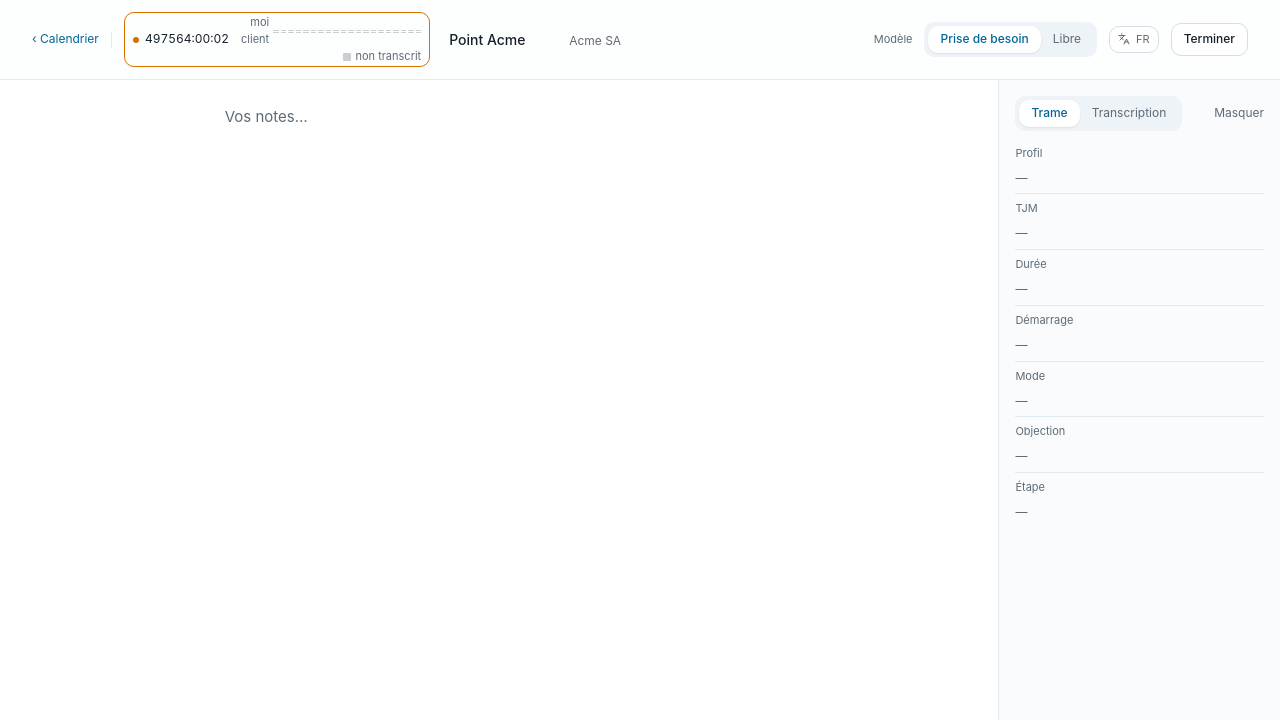
Test: the column opens on the slate and the transcript is asked for › putting the side panes away and bringing them back keeps the record
Expected: the button "Terminer" is shown, [1171,23,1248,56]
Click the button "Transcription". click: (1129, 113)
box: [1080,100,1178,127]
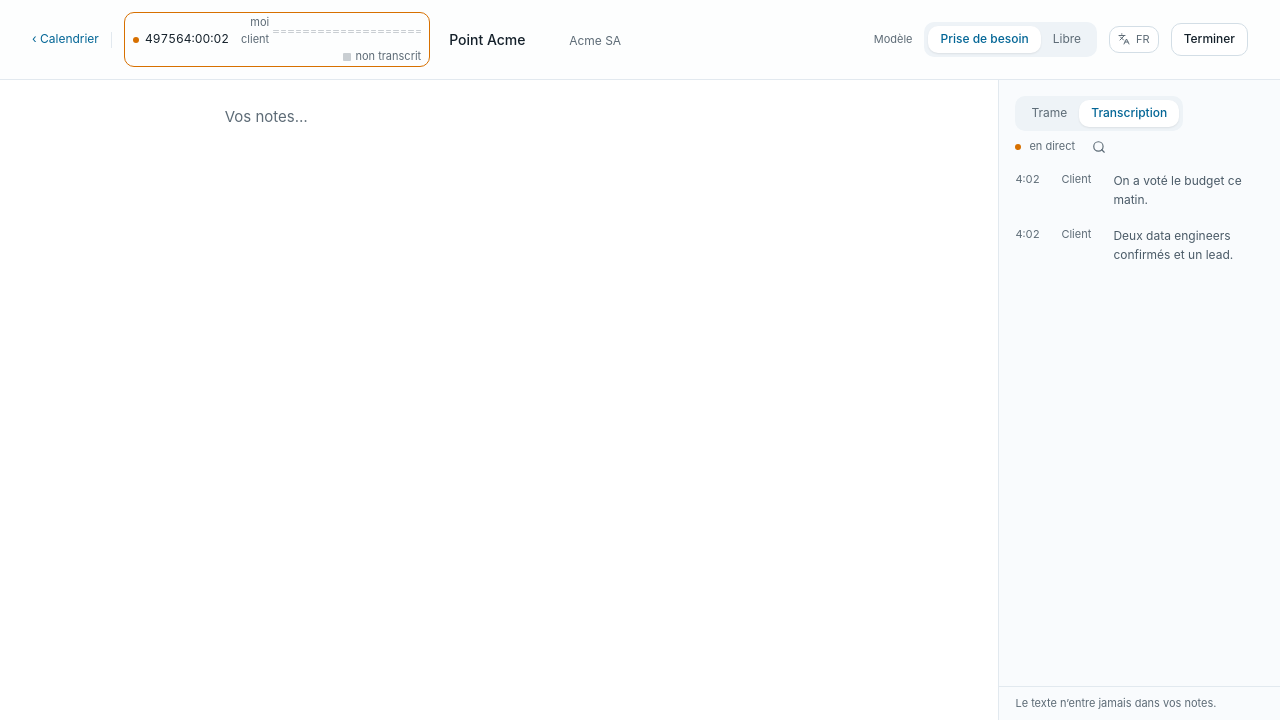
Now the text "On a voté le budget ce matin." is shown, box [1113,171,1264,210]
Click the button "Trame". click: (1049, 113)
box: [1019,100,1079,127]
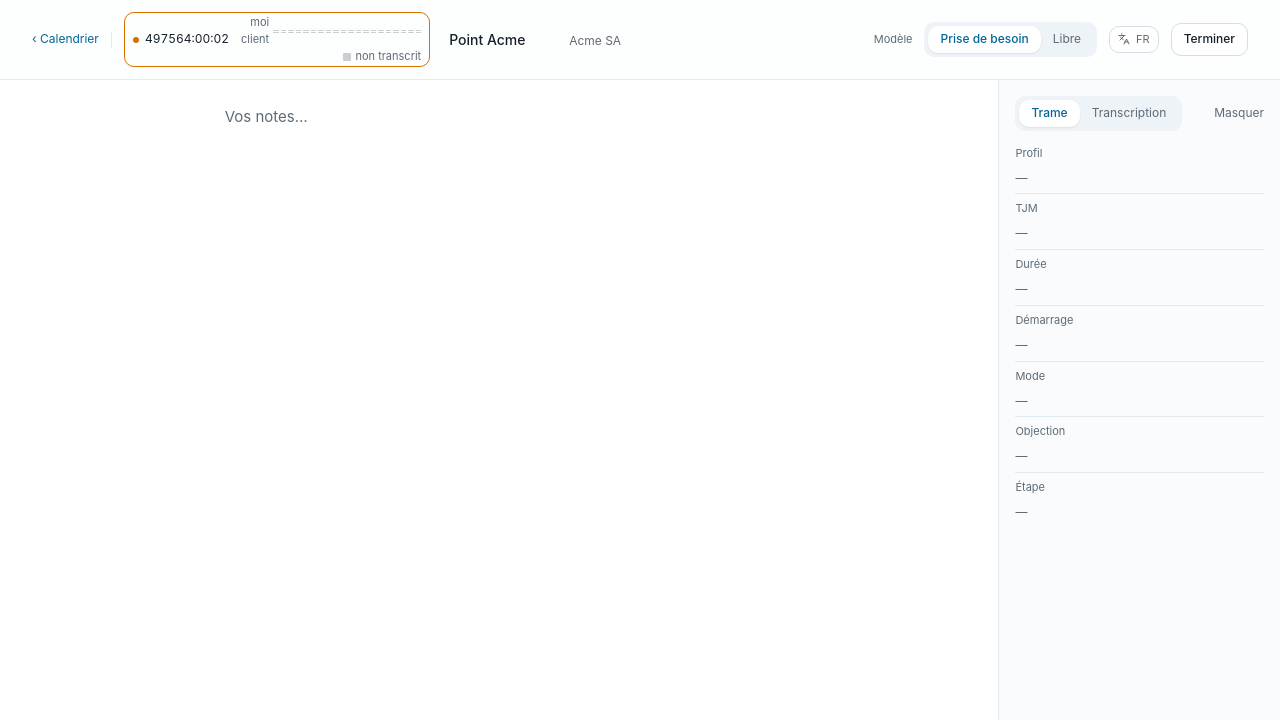
Click the button "Masquer". click: (1239, 113)
box: [1214,101,1264,125]
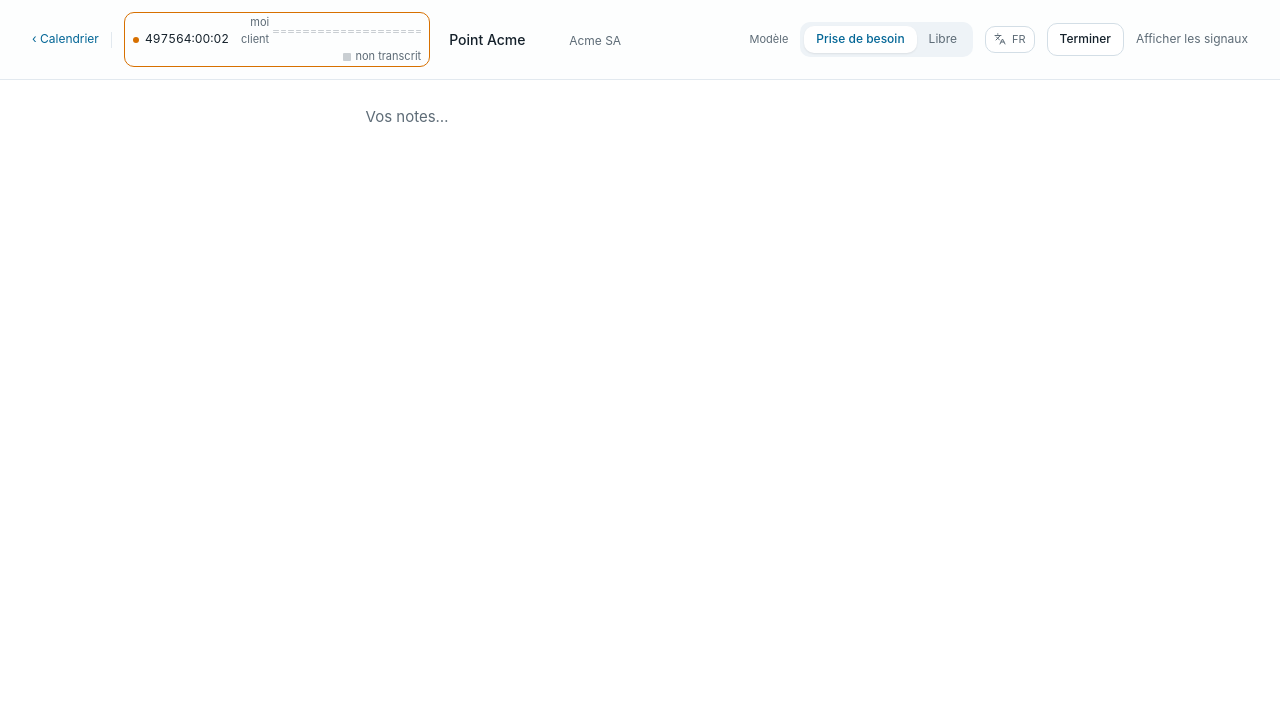
Click the button "Afficher les signaux". click: (1192, 40)
box: [1136,28,1248,52]
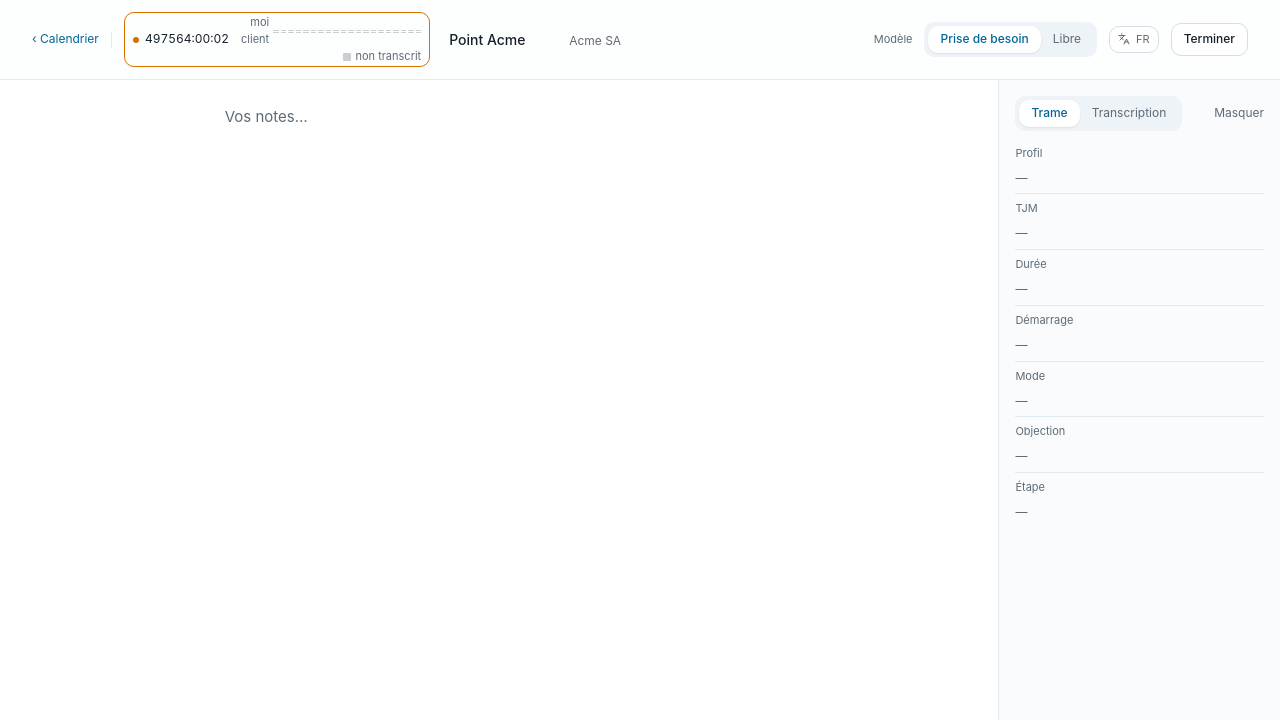
Click the button "Transcription". click: (1129, 113)
box: [1080,100,1178,127]
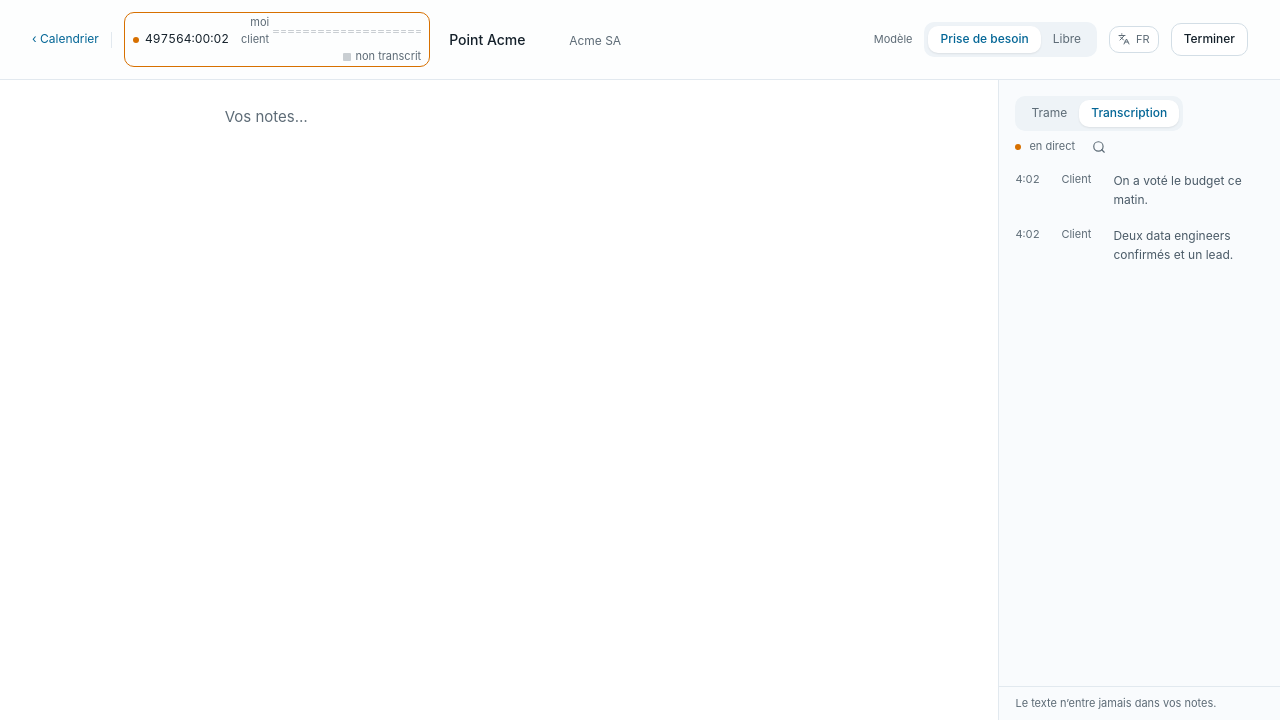
Now the text "On a voté le budget ce matin." is shown, box [1113,171,1264,210]
Now the text "Deux data engineers confirmés et un lead." is shown, box [1113,228,1233,262]
